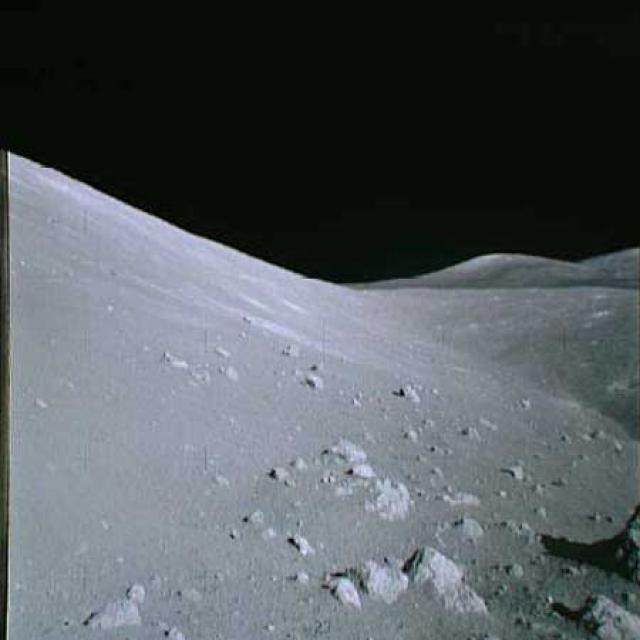rock: (410, 537, 487, 619), (588, 472, 638, 583), (544, 580, 638, 639), (360, 475, 422, 530), (354, 547, 410, 605), (77, 594, 142, 630), (318, 568, 360, 615), (442, 506, 487, 548), (321, 432, 370, 463), (282, 525, 318, 558), (394, 376, 428, 406), (259, 463, 295, 489), (298, 366, 327, 398), (276, 338, 303, 359)
